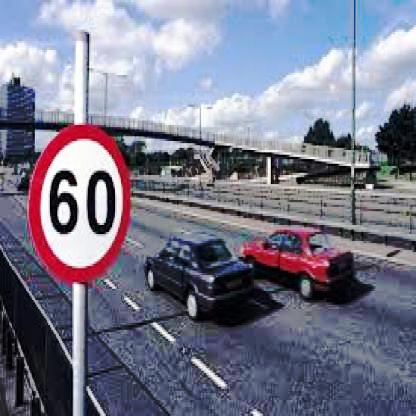Speed Limit -60-: (30, 124, 134, 279)
